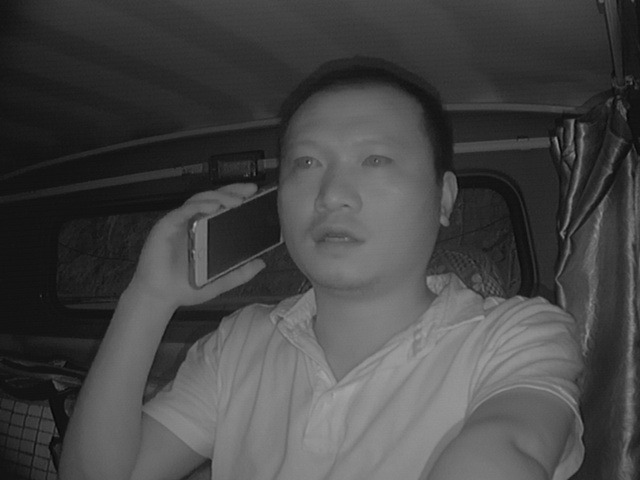hand: (145, 180, 264, 304)
